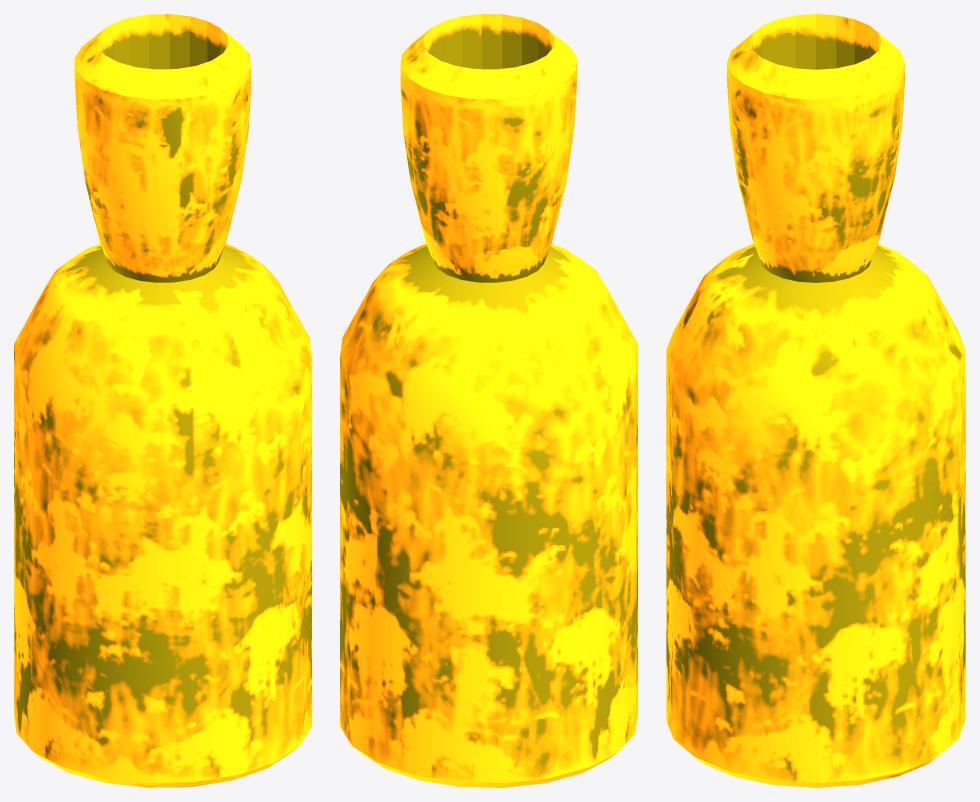
Rendered from Estus_Flask.fbx.
The picture shows the model from 3 angles, left to right: view 1: azimuth 30°, elevation 25°; view 2: azimuth 150°, elevation 25°; view 3: azimuth 270°, elevation 25°; orthographic projection.
Parts seen in each view (by area): view 1: estus_low; view 2: estus_low; view 3: estus_low.
Boxes of the visible parts, x1=… form: estus_low: x1=14, y1=14, x2=311, y2=787; estus_low: x1=340, y1=14, x2=637, y2=787; estus_low: x1=666, y1=14, x2=965, y2=787.
Bounding box in the file's own units: 0.2 × 0.5064 × 0.2.
